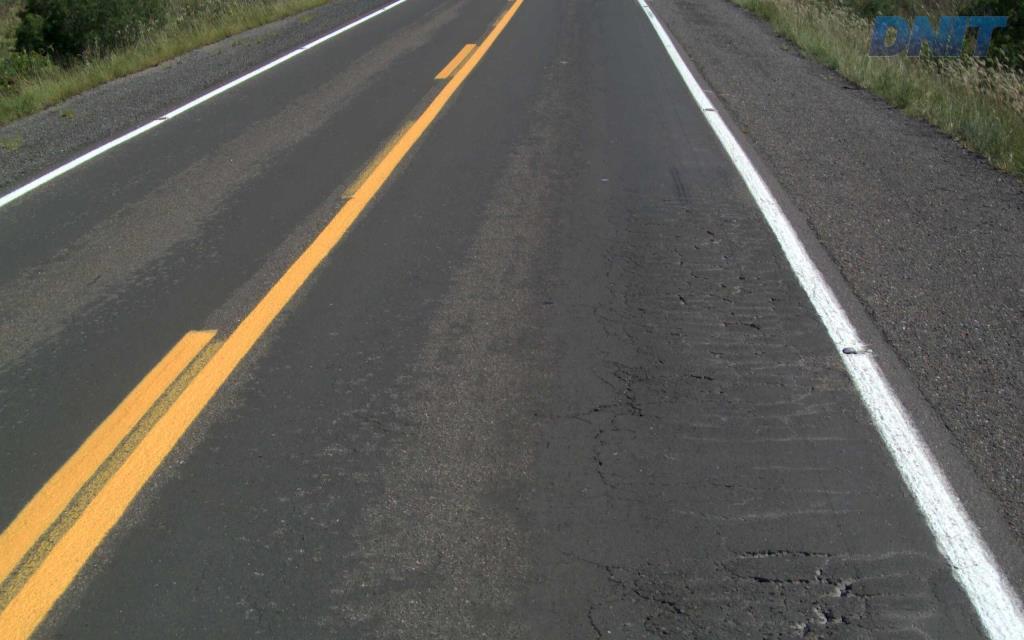crack: (631, 574, 707, 639), (612, 361, 651, 417)
